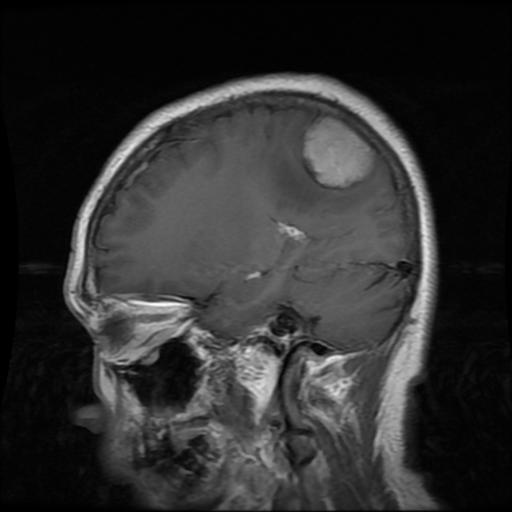Menigiomia_tumour: (303, 117, 375, 186)
